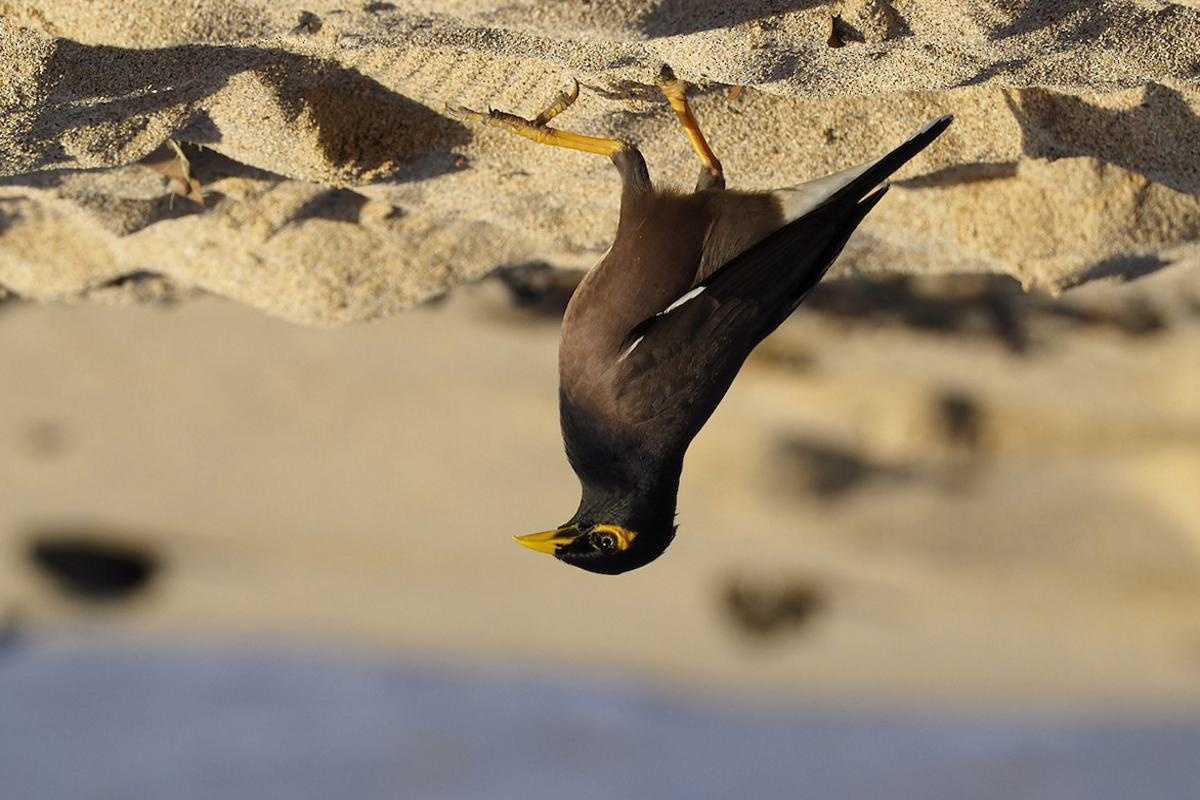myna: (519, 70, 837, 612)
